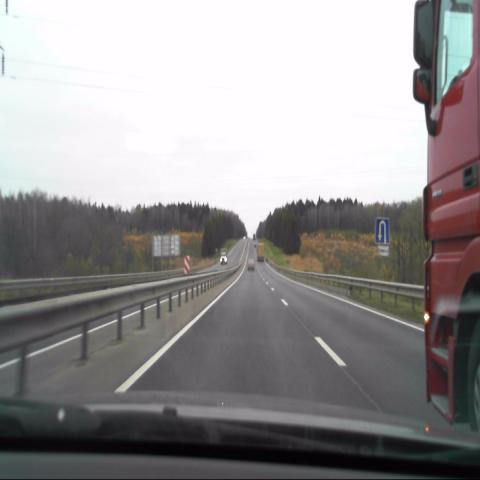6_3_1: (376, 217, 390, 243)
